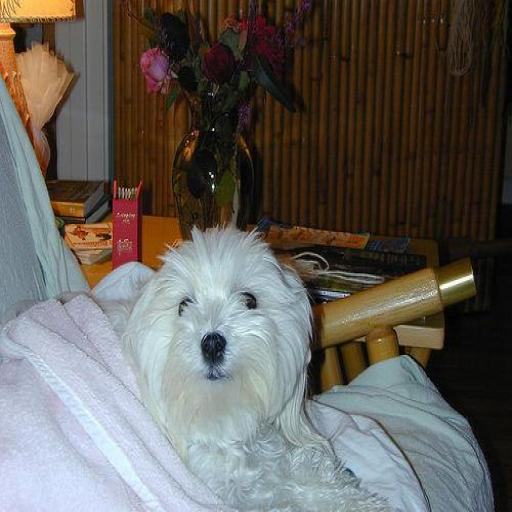dog_face: (133, 235, 284, 414)
